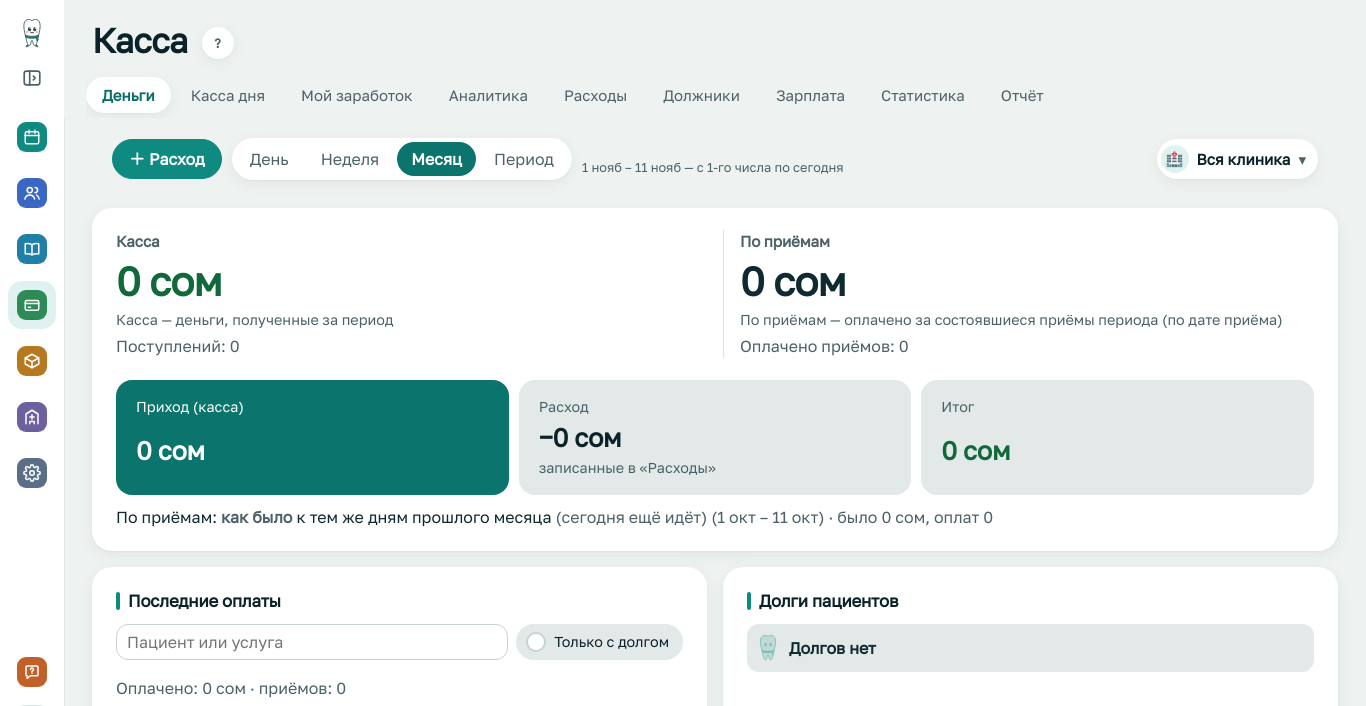
it: аналитика: выручка по дням — оплат нет
The width and height of the screenshot is (1366, 706).
expect the navigation bar named "Разделы" is shown: met, box left=8, top=113, right=56, bottom=497
Click the link "Аналитика". click: click(488, 95)
box: left=449, top=86, right=528, bottom=104
(page scrolled)
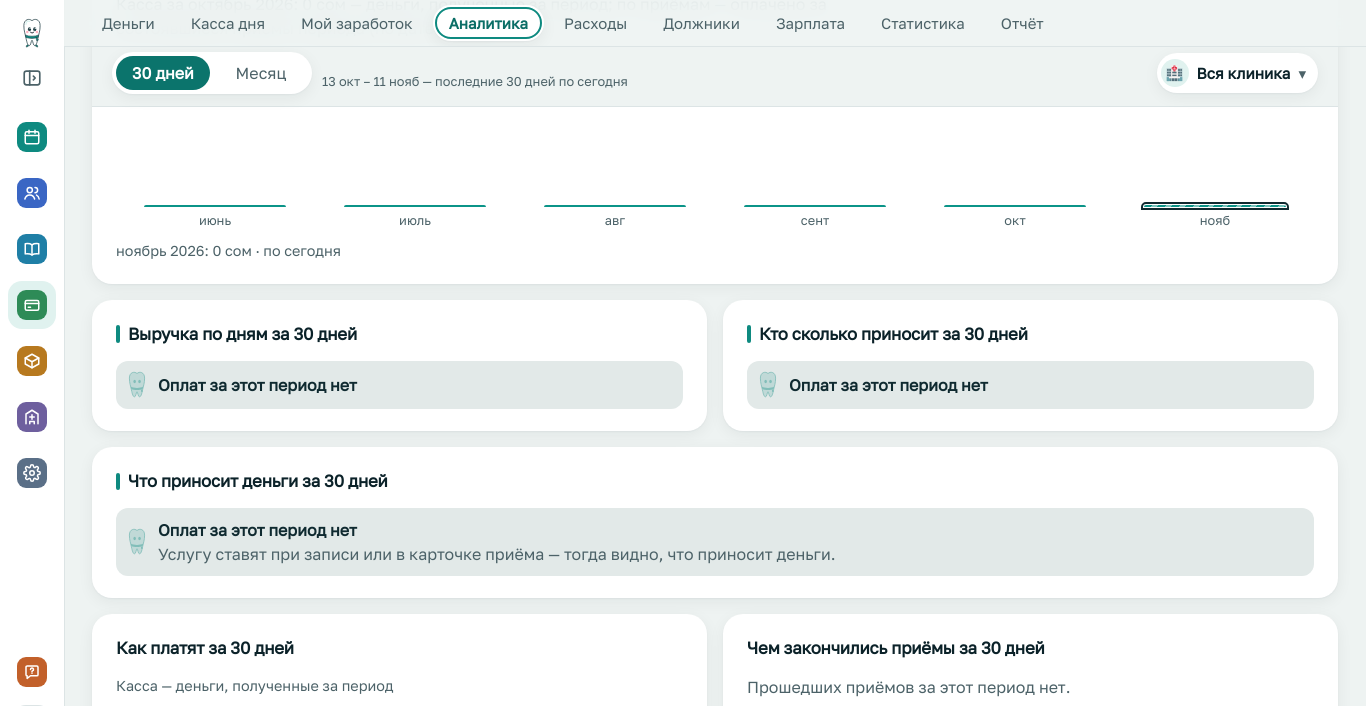
expect the text "Оплат за этот период нет" below "Выручка по дням" is shown: met, box left=158, top=375, right=357, bottom=395
